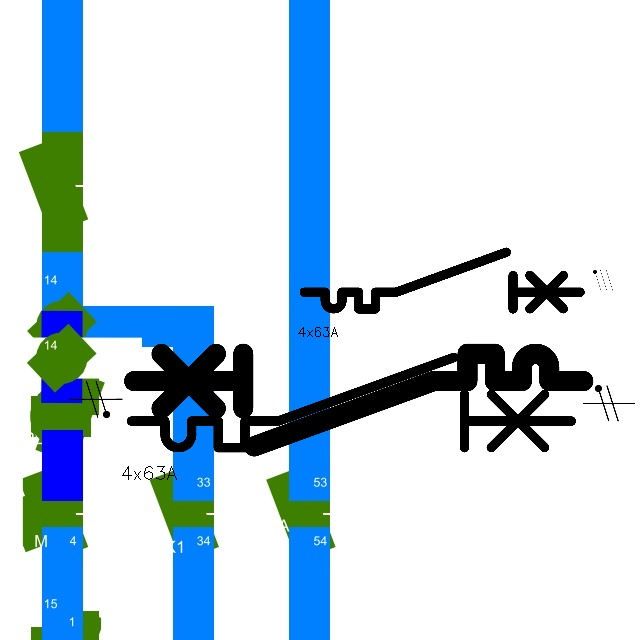interruptor_termomagnetico: (122, 342, 595, 457), (120, 346, 582, 459), (297, 245, 587, 316)
